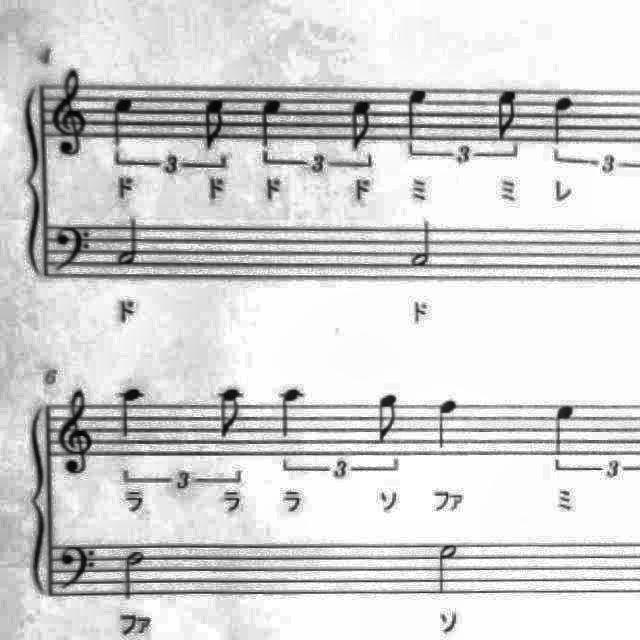Bass-clef: (50, 216, 98, 276), (55, 540, 103, 596)
Eighth-note: (364, 388, 404, 452), (487, 82, 525, 146), (198, 93, 234, 157), (344, 96, 381, 156), (212, 387, 248, 447)
Half-note: (404, 213, 442, 271), (112, 212, 148, 272), (433, 537, 467, 599), (118, 545, 152, 603)
Quarter-note: (398, 81, 436, 147), (272, 381, 312, 443), (546, 396, 582, 464), (113, 381, 151, 444), (430, 392, 466, 456), (104, 88, 140, 152), (545, 88, 581, 148), (254, 94, 290, 154)
Treble-clef: (52, 382, 100, 478), (48, 65, 92, 163)
